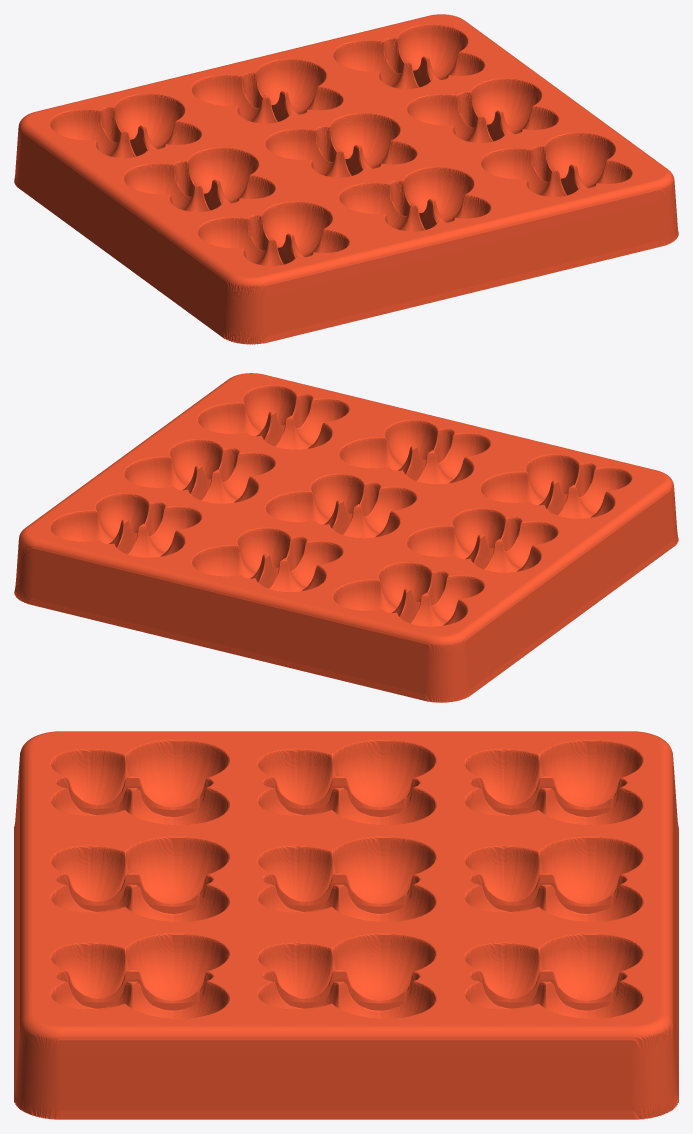
The model's file is mold.glb.
3 views of the same model, one above another, from view 1: azimuth 30°, elevation 25°; view 2: azimuth 150°, elevation 25°; view 3: azimuth 270°, elevation 25° (orthographic). The views are drawn at different scales.
Parts seen in each view (by area): view 1: geometry_0; view 2: geometry_0; view 3: geometry_0.
Part boxes in pixels (x1,y1,x2,y2): geometry_0: (14, 14, 678, 344); geometry_0: (14, 373, 678, 702); geometry_0: (14, 731, 678, 1119).
Bounding box in the file's own units: 0.1402 × 0.0182 × 0.1274.
